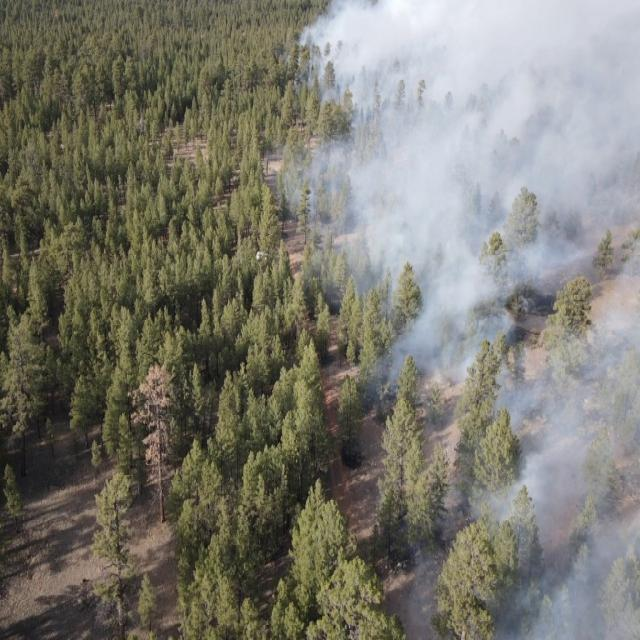smoke: (271, 1, 640, 376), (395, 379, 640, 640)
